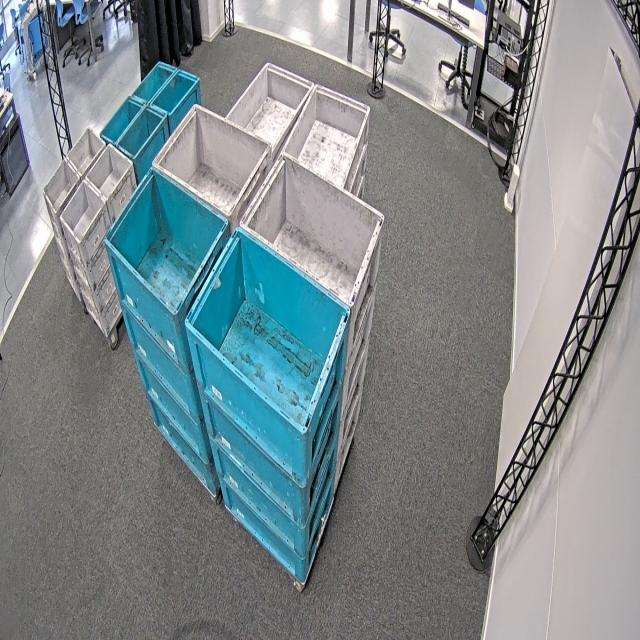Roll3G: (282, 81, 372, 190), (224, 61, 316, 156)
Roll4G: (239, 150, 384, 308), (152, 102, 272, 218)
Roll8G: (59, 143, 134, 245), (42, 124, 106, 216)
RollB4: (184, 225, 351, 435), (103, 165, 230, 317)
RollB8: (98, 94, 168, 161), (130, 60, 201, 121)
